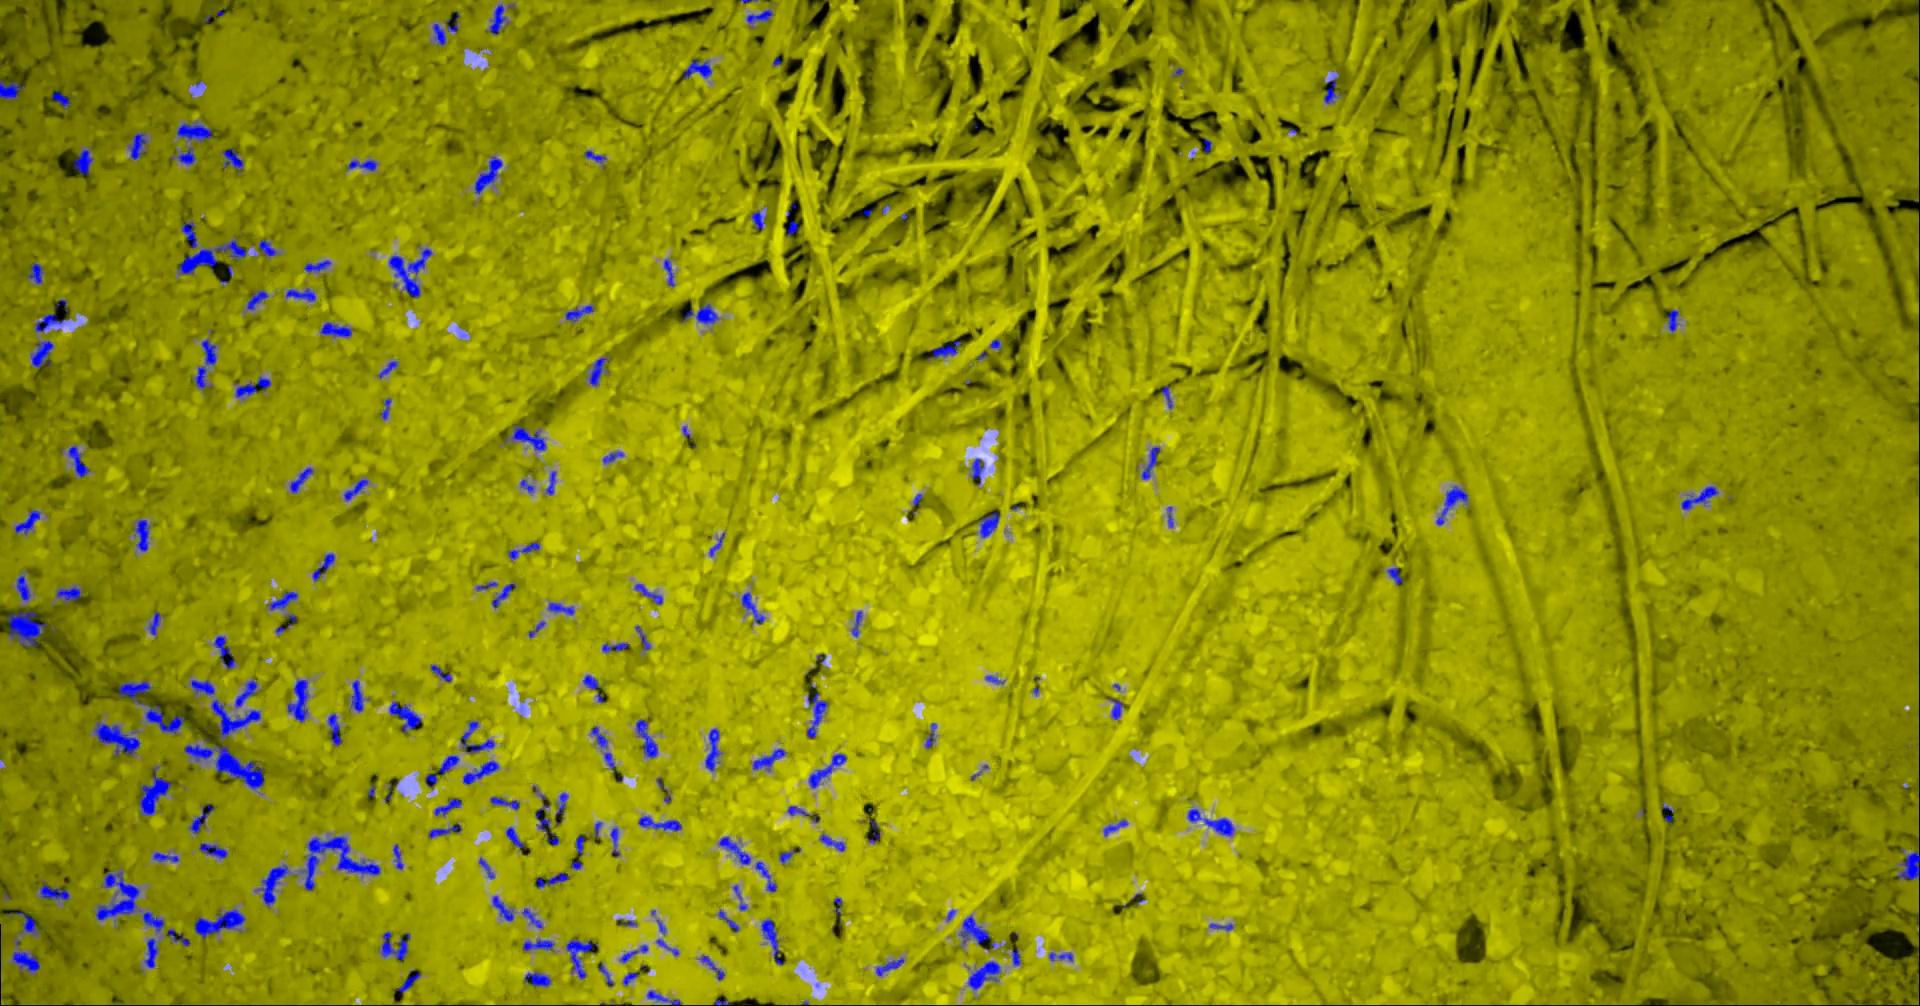ant: (119, 680, 185, 734), (178, 239, 248, 274), (390, 246, 433, 297), (97, 871, 141, 920), (140, 765, 173, 815), (9, 606, 50, 647), (196, 908, 248, 939), (95, 721, 141, 754), (257, 864, 291, 904), (810, 753, 848, 788), (1437, 485, 1470, 525), (1189, 808, 1236, 835), (568, 939, 599, 978), (537, 793, 560, 845), (461, 720, 497, 753), (196, 339, 218, 387), (476, 155, 504, 194), (592, 727, 617, 770), (762, 920, 786, 964), (505, 424, 547, 450), (390, 701, 423, 733), (808, 692, 829, 738), (969, 960, 1002, 989), (1897, 838, 1920, 879), (434, 10, 461, 44), (1683, 485, 1719, 509), (463, 760, 500, 784), (961, 915, 990, 944), (290, 680, 310, 721), (721, 836, 752, 864), (637, 719, 659, 757), (383, 931, 411, 960), (215, 635, 237, 669), (236, 376, 272, 398), (69, 445, 91, 478), (754, 748, 787, 771), (190, 804, 216, 833), (743, 591, 766, 622), (9, 911, 41, 934), (178, 121, 213, 141), (706, 728, 723, 771), (684, 304, 720, 323), (36, 312, 71, 332), (312, 553, 337, 580), (756, 861, 778, 890), (640, 815, 683, 831), (700, 955, 726, 979), (32, 340, 55, 368), (236, 680, 259, 708), (930, 340, 963, 359), (352, 680, 371, 713), (490, 4, 510, 34), (17, 509, 42, 533), (493, 583, 517, 608), (636, 583, 664, 605), (1143, 446, 1161, 479), (291, 467, 314, 493), (41, 882, 71, 901), (493, 895, 516, 921), (684, 58, 712, 79), (509, 541, 541, 559), (269, 591, 298, 610), (345, 478, 370, 500), (397, 969, 422, 992), (223, 149, 245, 174), (648, 989, 683, 1005), (568, 304, 596, 323), (590, 357, 610, 385), (13, 951, 41, 970), (877, 956, 905, 976), (135, 520, 151, 551), (1, 79, 25, 100), (982, 511, 1001, 537), (537, 873, 570, 888), (436, 798, 463, 815), (621, 944, 649, 962), (1324, 77, 1343, 103), (75, 149, 94, 174), (321, 321, 353, 337), (748, 9, 775, 27), (131, 132, 149, 159), (719, 909, 740, 931), (143, 911, 166, 931), (329, 713, 343, 746), (430, 823, 463, 837), (171, 146, 197, 164), (439, 754, 461, 775), (507, 826, 526, 848), (822, 833, 846, 851), (287, 287, 317, 301), (201, 842, 229, 857), (524, 970, 552, 986), (523, 907, 543, 927), (248, 290, 269, 309), (378, 359, 400, 379), (146, 937, 160, 967), (658, 937, 681, 955), (524, 937, 556, 950), (710, 532, 726, 556), (183, 221, 198, 246), (57, 586, 83, 601), (491, 796, 521, 809), (192, 680, 216, 695), (1105, 819, 1129, 835), (432, 664, 453, 681), (169, 929, 190, 945), (18, 574, 32, 600), (549, 602, 577, 615), (734, 884, 748, 909), (599, 963, 615, 986), (53, 91, 72, 109), (260, 239, 279, 257), (305, 259, 331, 272), (926, 721, 938, 748), (637, 625, 651, 649), (480, 857, 497, 878), (349, 159, 378, 170), (29, 262, 44, 283), (1110, 697, 1125, 719), (781, 848, 803, 864), (973, 459, 985, 484), (869, 819, 883, 842), (154, 851, 180, 862), (585, 150, 608, 163), (1162, 385, 1175, 408), (150, 611, 163, 634), (665, 258, 676, 286), (1389, 567, 1404, 584), (853, 610, 863, 636), (603, 641, 630, 652), (753, 210, 767, 229), (1669, 309, 1680, 332), (557, 793, 569, 815), (612, 827, 621, 856), (604, 451, 625, 464), (394, 843, 404, 869), (584, 674, 602, 688), (547, 470, 557, 494), (1050, 951, 1074, 962), (789, 805, 811, 815), (382, 398, 392, 419), (625, 970, 640, 984), (787, 220, 800, 235), (477, 580, 499, 589), (521, 479, 535, 492), (427, 774, 439, 788), (577, 835, 585, 854), (1210, 923, 1236, 930), (1013, 948, 1022, 965)
